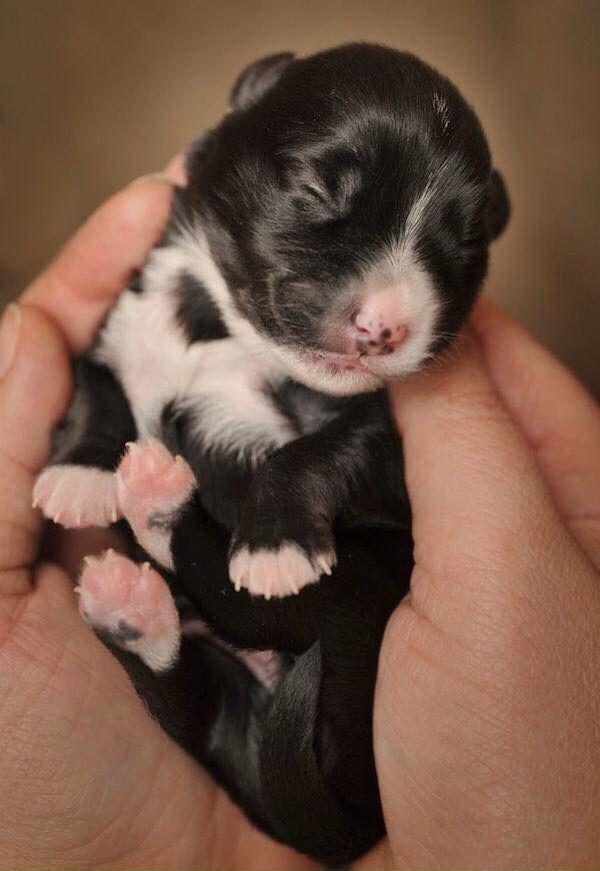puppy-dog: (34, 41, 511, 861)
